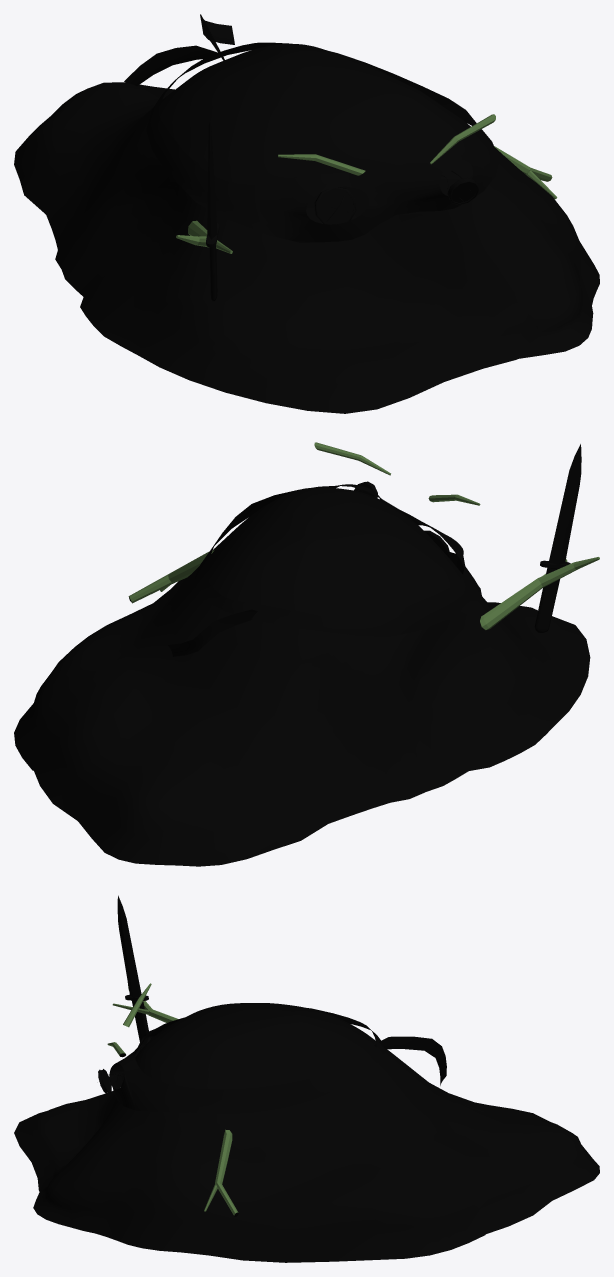
The model's file is Slime para Texturizar.fbx.
3 views of the same model, one above another, from view 1: azimuth 30°, elevation 25°; view 2: azimuth 150°, elevation 25°; view 3: azimuth 270°, elevation 25° (orthographic). The views are drawn at different scales.
Parts seen in each view (by area): view 1: Slime_de_Entrenamiento; view 2: Slime_de_Entrenamiento; view 3: Slime_de_Entrenamiento.
Part boxes in pixels (<box>): Slime_de_Entrenamiento: <box>14,14,599,413</box>; Slime_de_Entrenamiento: <box>14,442,599,866</box>; Slime_de_Entrenamiento: <box>14,895,599,1262</box>.
Bounding box in the file's own units: 547 × 302 × 776.
